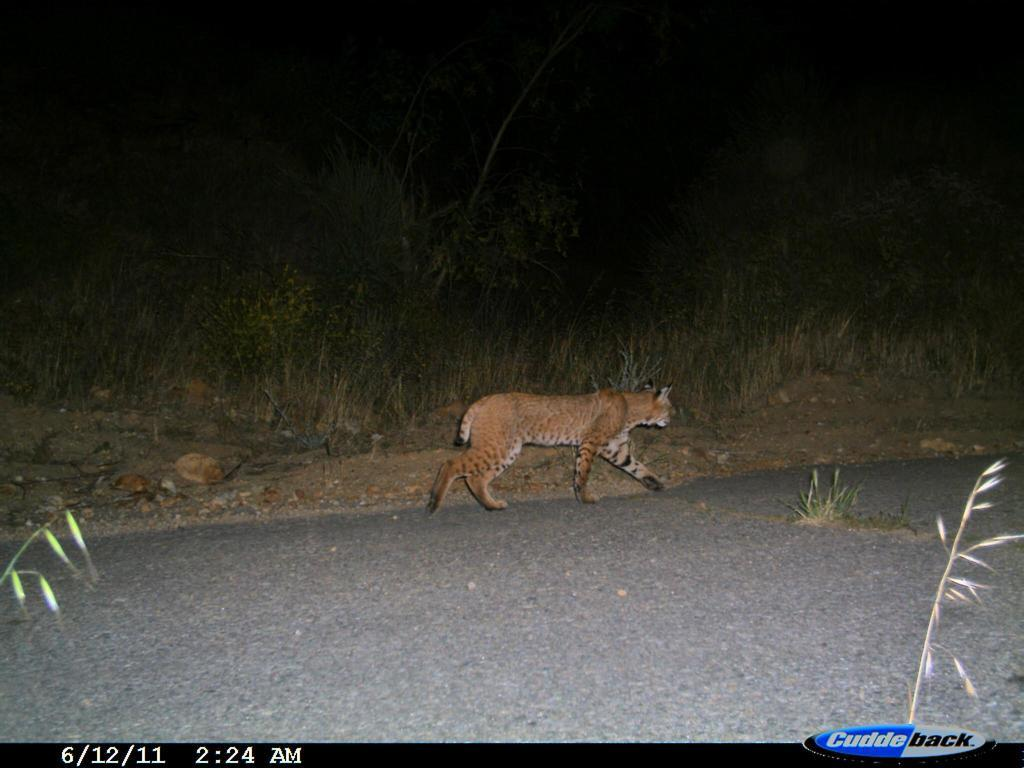bobcat: (413, 377, 684, 521)
